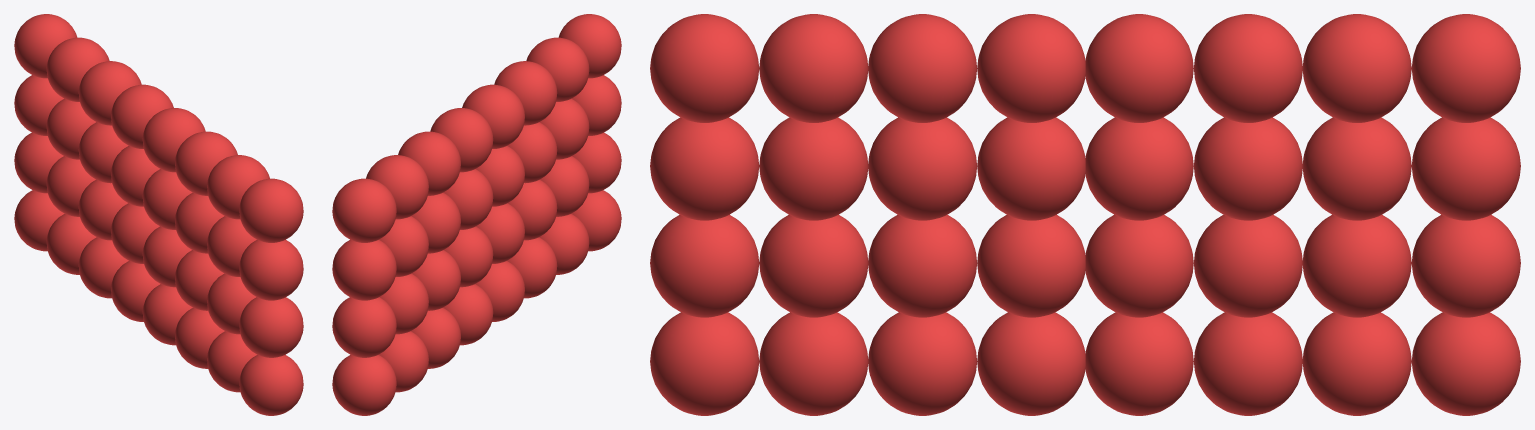
The model's file is 2-D[AAAA(square packaging)].glb.
3 renders of one model, left to right at view 1: azimuth 30°, elevation 25°; view 2: azimuth 150°, elevation 25°; view 3: azimuth 270°, elevation 25°, orthographic. The views are drawn at different scales.
Parts seen in each view (by area): view 1: Sphere.002, Sphere.026, Sphere.010, Sphere.018, Sphere.007, Sphere.003, Sphere.005, Sphere.001, Sphere.004, Sphere, Sphere.006, Sphere.027 (+20 smaller); view 2: Sphere.005, Sphere.029, Sphere.013, Sphere.021, Sphere, Sphere.004, Sphere.002, Sphere.006, Sphere.003, Sphere.007, Sphere.001, Sphere.024 (+20 smaller); view 3: Sphere.002, Sphere.005, Sphere, Sphere.007, Sphere.003, Sphere.004, Sphere.001, Sphere.006, Sphere.026, Sphere.029, Sphere.024, Sphere.031 (+20 smaller).
Part boxes in pixels (box(x1,y1,x2,y2)): Sphere.002: box(239, 178, 303, 242); Sphere.026: box(239, 355, 303, 415); Sphere.010: box(239, 239, 303, 300); Sphere.018: box(239, 297, 303, 357); Sphere.007: box(78, 61, 141, 125); Sphere.003: box(207, 155, 269, 219); Sphere.005: box(14, 14, 77, 78); Sphere.001: box(142, 108, 205, 172); Sphere.004: box(46, 37, 109, 101); Sphere: box(175, 131, 237, 195); Sphere.006: box(111, 84, 173, 148); Sphere.027: box(207, 331, 256, 392); Sphere.005: box(332, 178, 396, 242); Sphere.029: box(332, 355, 396, 415); Sphere.013: box(332, 239, 396, 300); Sphere.021: box(332, 297, 396, 357); Sphere: box(494, 61, 557, 125); Sphere.004: box(366, 155, 428, 219); Sphere.002: box(558, 14, 621, 78); Sphere.006: box(430, 108, 493, 172); Sphere.003: box(526, 37, 589, 101); Sphere.007: box(398, 131, 460, 195); Sphere.001: box(462, 84, 524, 148); Sphere.024: box(507, 237, 557, 298); Sphere.002: box(650, 14, 759, 122); Sphere.005: box(1411, 14, 1520, 122); Sphere: box(868, 14, 977, 122); Sphere.007: box(1193, 14, 1302, 122); Sphere.003: box(759, 14, 868, 122); Sphere.004: box(1302, 14, 1411, 122); Sphere.001: box(977, 14, 1085, 122); Sphere.006: box(1085, 14, 1193, 122); Sphere.026: box(650, 312, 759, 415); Sphere.029: box(1411, 312, 1520, 415); Sphere.024: box(868, 312, 977, 415); Sphere.031: box(1193, 312, 1302, 415).
Bounding box in the file's own units: 2 × 7.92 × 15.94.
